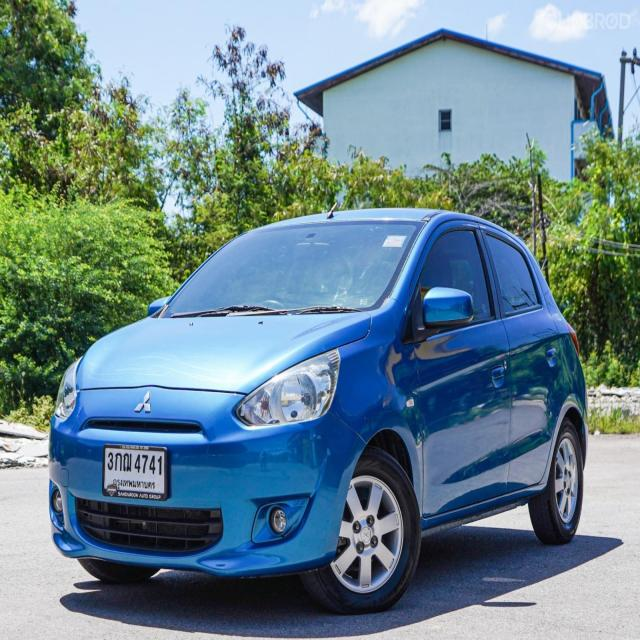license_plate: (101, 440, 172, 504)
